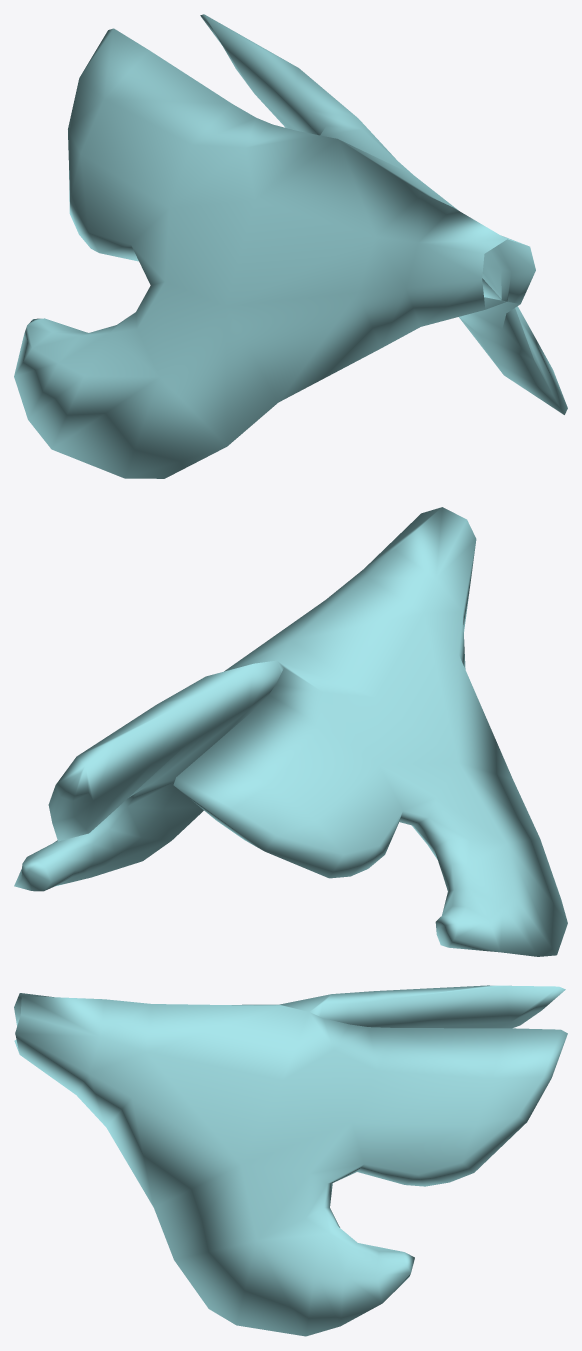
Rendered from Shrimp_Fan_Cherry.fbx.
3 renders of one model, top to bottom at view 1: azimuth 30°, elevation 25°; view 2: azimuth 150°, elevation 25°; view 3: azimuth 270°, elevation 25°, orthographic. The views are drawn at different scales.
Visible parts, largest first — view 1: Ch.Tail_fan_low_LOD0; view 2: Ch.Tail_fan_low_LOD0; view 3: Ch.Tail_fan_low_LOD0.
Part boxes in pixels (x1,y1,x2,y2): Ch.Tail_fan_low_LOD0: (14, 14, 567, 478); Ch.Tail_fan_low_LOD0: (14, 507, 567, 956); Ch.Tail_fan_low_LOD0: (14, 985, 567, 1336).
Size of what is drawn, in the model's own units: 50.77 by 29.63 by 58.75.
